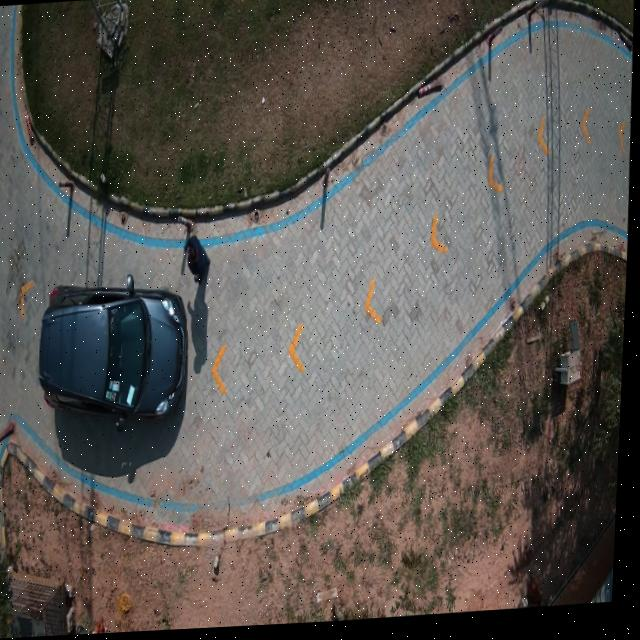car: (43, 280, 189, 431)
